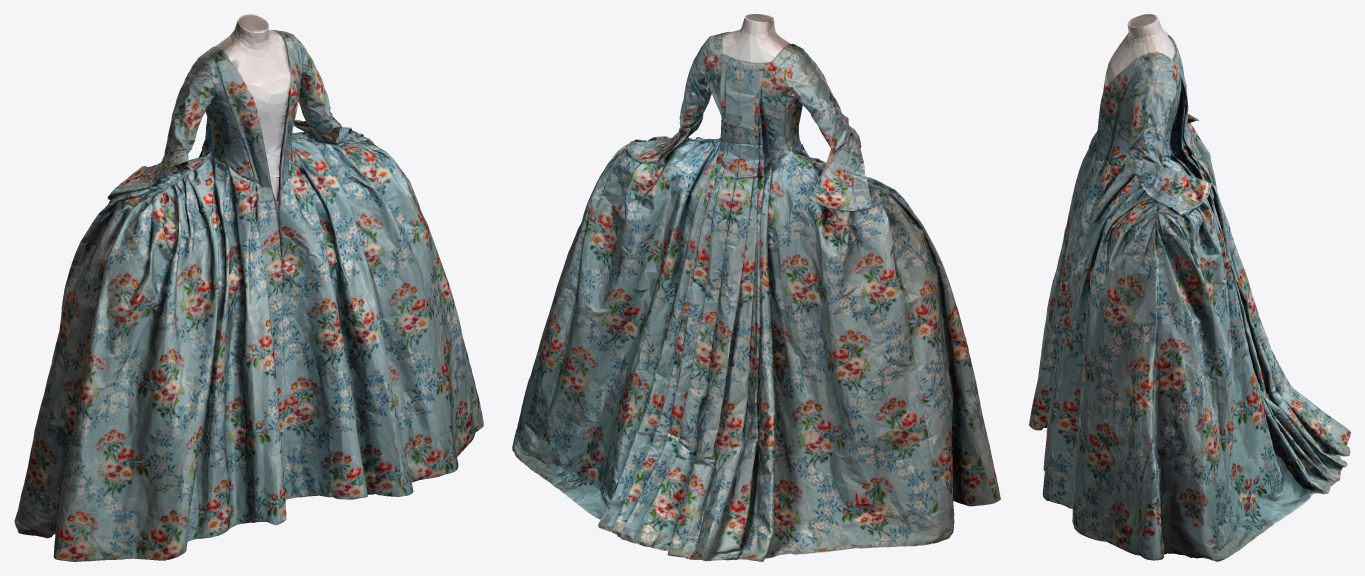
The model's file is robe.glb.
3 views of the same model, side by side, from view 1: azimuth 30°, elevation 25°; view 2: azimuth 150°, elevation 25°; view 3: azimuth 270°, elevation 25° (orthographic). The views are drawn at different scales.
Visible parts, largest first — view 1: T8503_Artec-scan_edited; view 2: T8503_Artec-scan_edited; view 3: T8503_Artec-scan_edited.
Part boxes in pixels (box(x1,y1,x2,y2)): T8503_Artec-scan_edited: box(14, 14, 483, 561); T8503_Artec-scan_edited: box(512, 14, 1000, 561); T8503_Artec-scan_edited: box(1029, 14, 1350, 561).
Bounding box in the file's own units: 143 × 142 × 92.7.
1 material, 1 textured.
